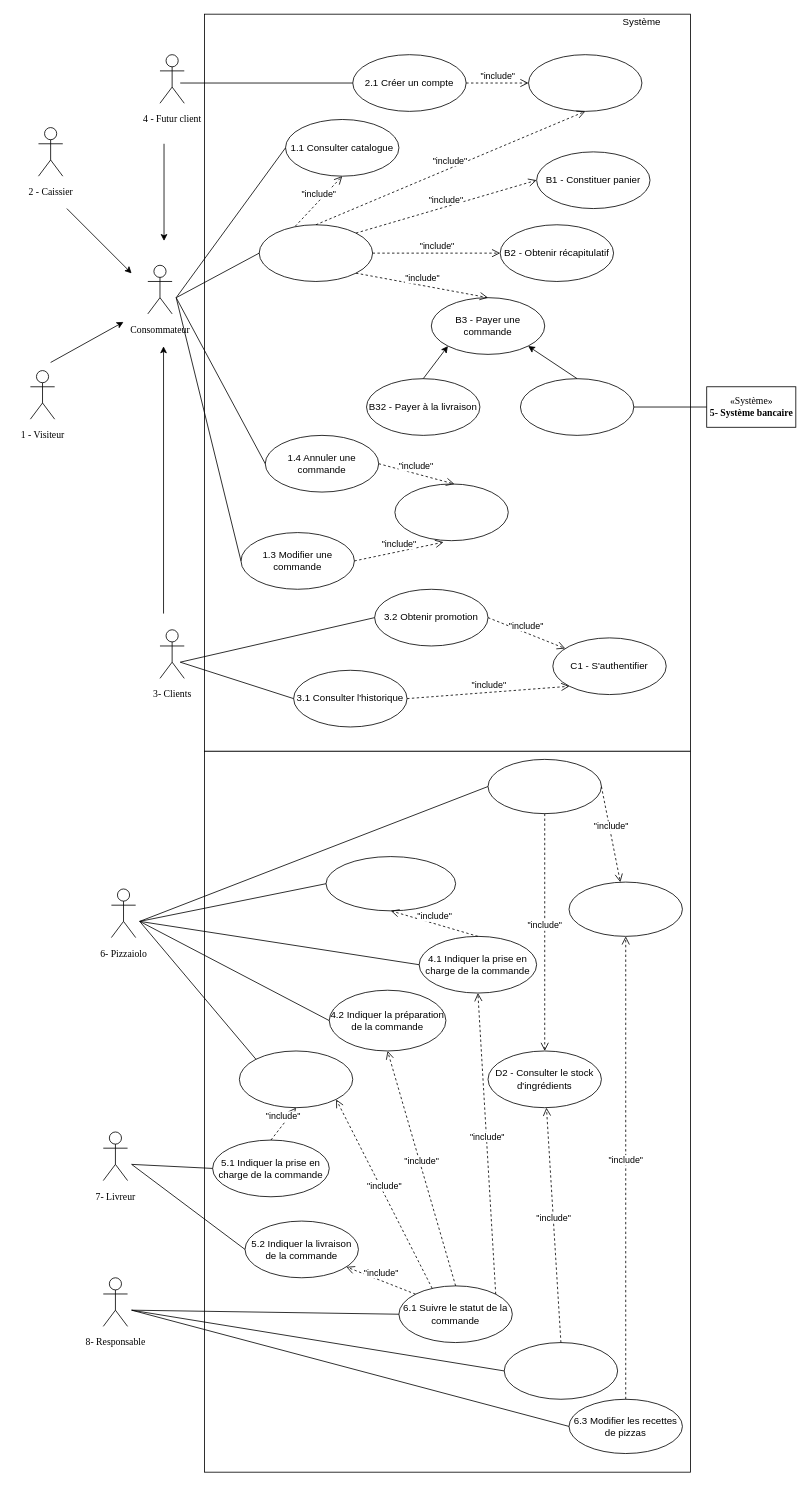
The diagram is 810 pixels wide and 1486 high, and some of its shapes have lost their labels. The centre of each missing label's shape, as x and y in pixels:
1.2 Passer une commande: point (315, 252)
4.3 Indiquer "pizza prête": point (296, 1079)
4.4 Consulter les pizzas réalisables: point (544, 786)
4.5 Consulter les commandes à réaliser: point (390, 883)
6.2 Modifier le stock d'ingrédients: point (560, 1370)
A1 - Fournir informations personnelles: point (585, 82)
B31 - Payer en ligne: point (577, 406)
B5 - Consulter une commande: point (451, 512)
D1 - Consulter les recettes de pizzas: point (625, 908)
